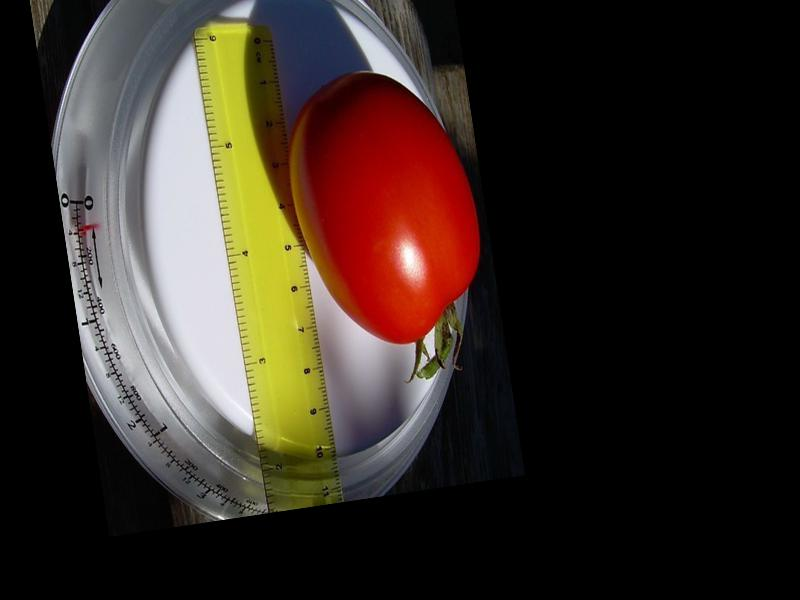Tomato: (271, 59, 495, 359)
